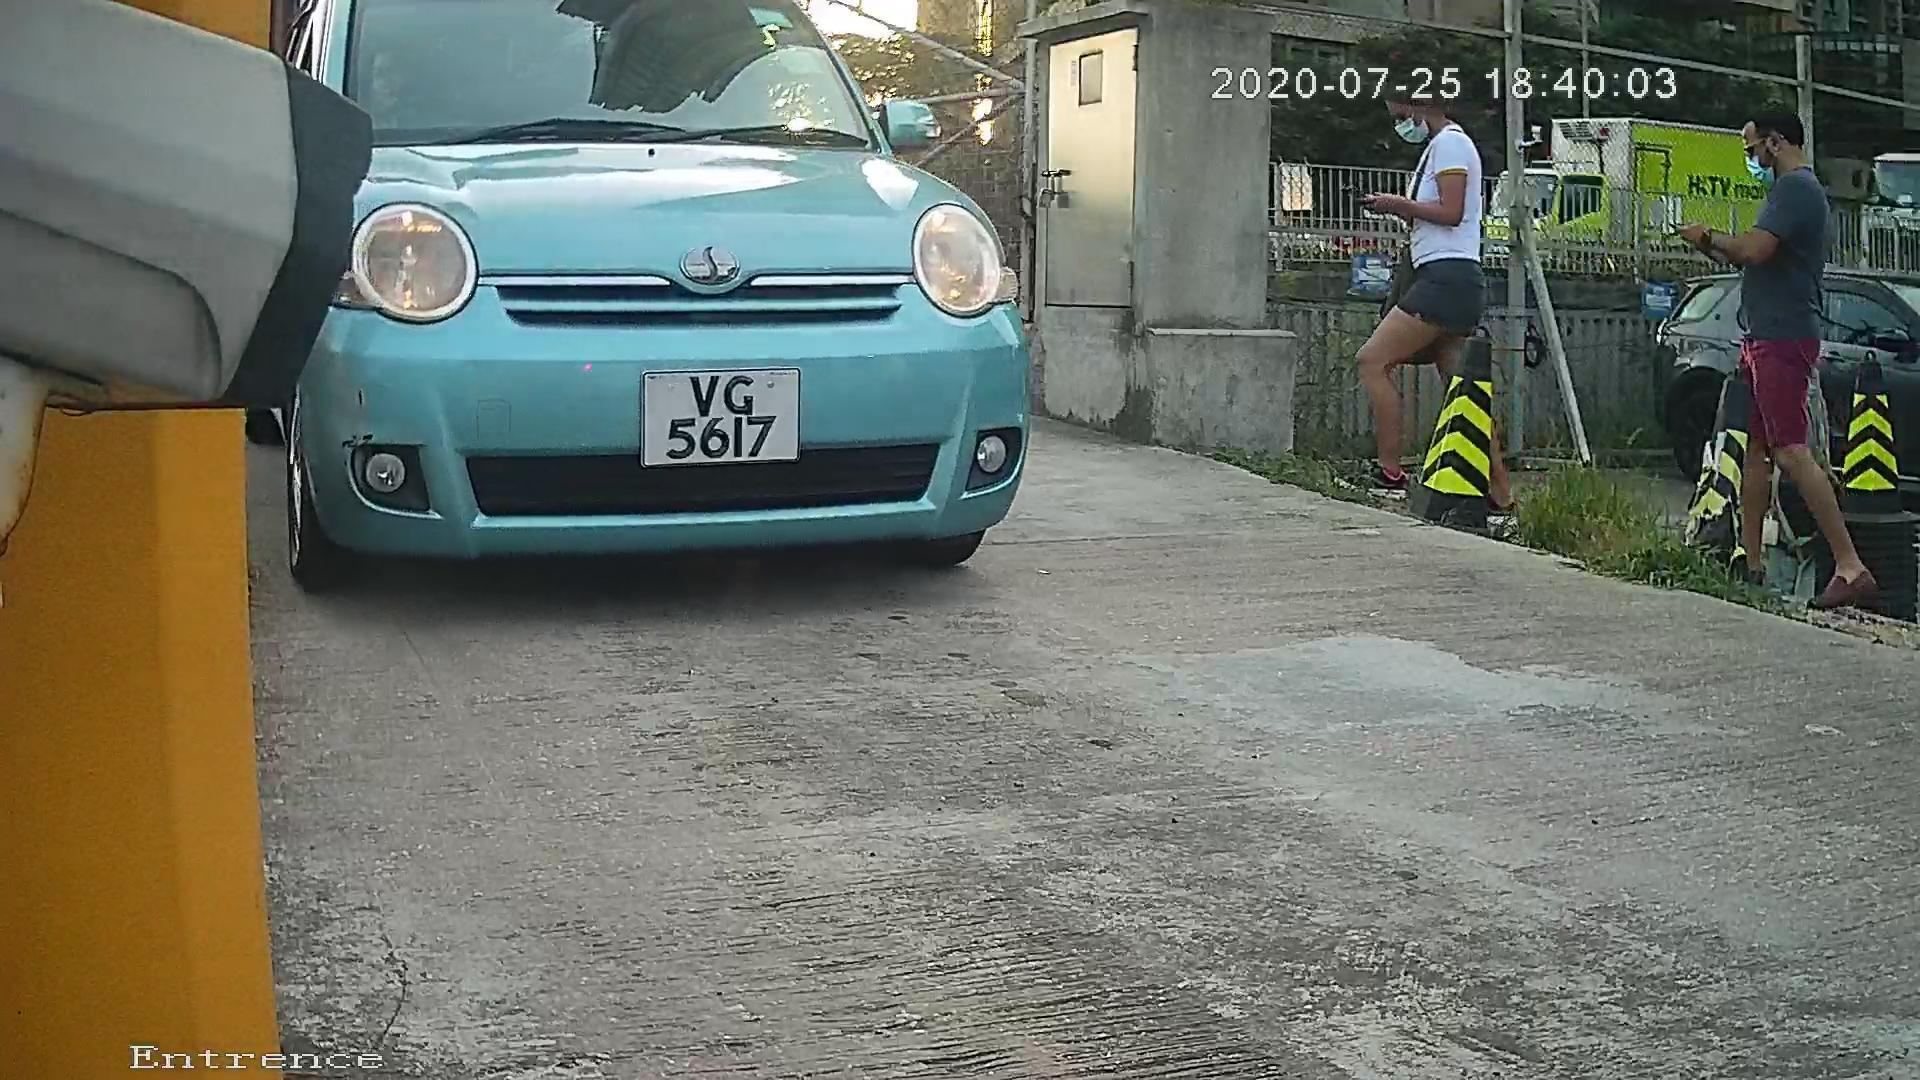privatecar: (232, 1, 1209, 584)
